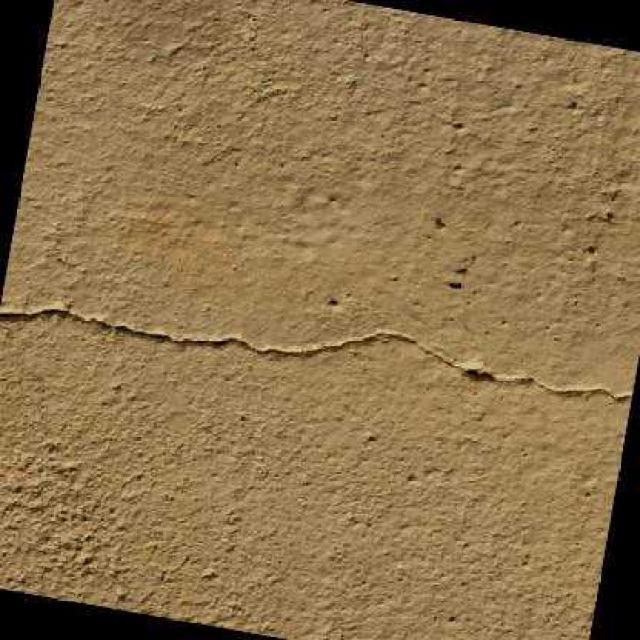D00: (0, 308, 632, 400)
